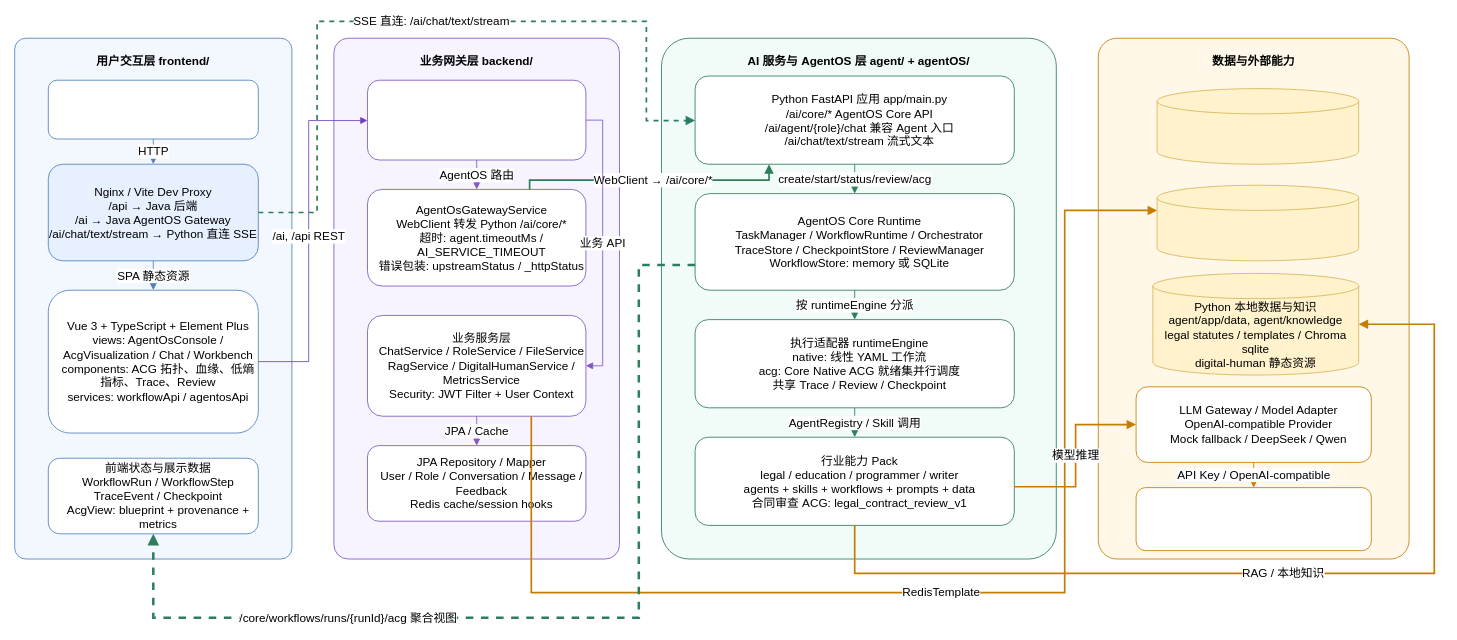
Image size: 1457x640. Some labels were removed from this diagram. Each missing label, with the centre of its shape:
"Controller 层 AgentOsGatewayController Chat/Auth/Role/File/Voice/... Controller" belongs at point (476, 119).
"PostgreSQL 15 users / roles / conversations / messages / feedback" belongs at point (1257, 126).
"Redis 7 缓存 / 会话 / 限流辅助" belongs at point (1257, 222).
"外部模型服务 DeepSeek: 文本生成 / 意图解析 通义千问: 多模态 / 语音 / 备用" belongs at point (1253, 519).
"用户 / 审核者 浏览器访问前端" belongs at point (152, 109).
